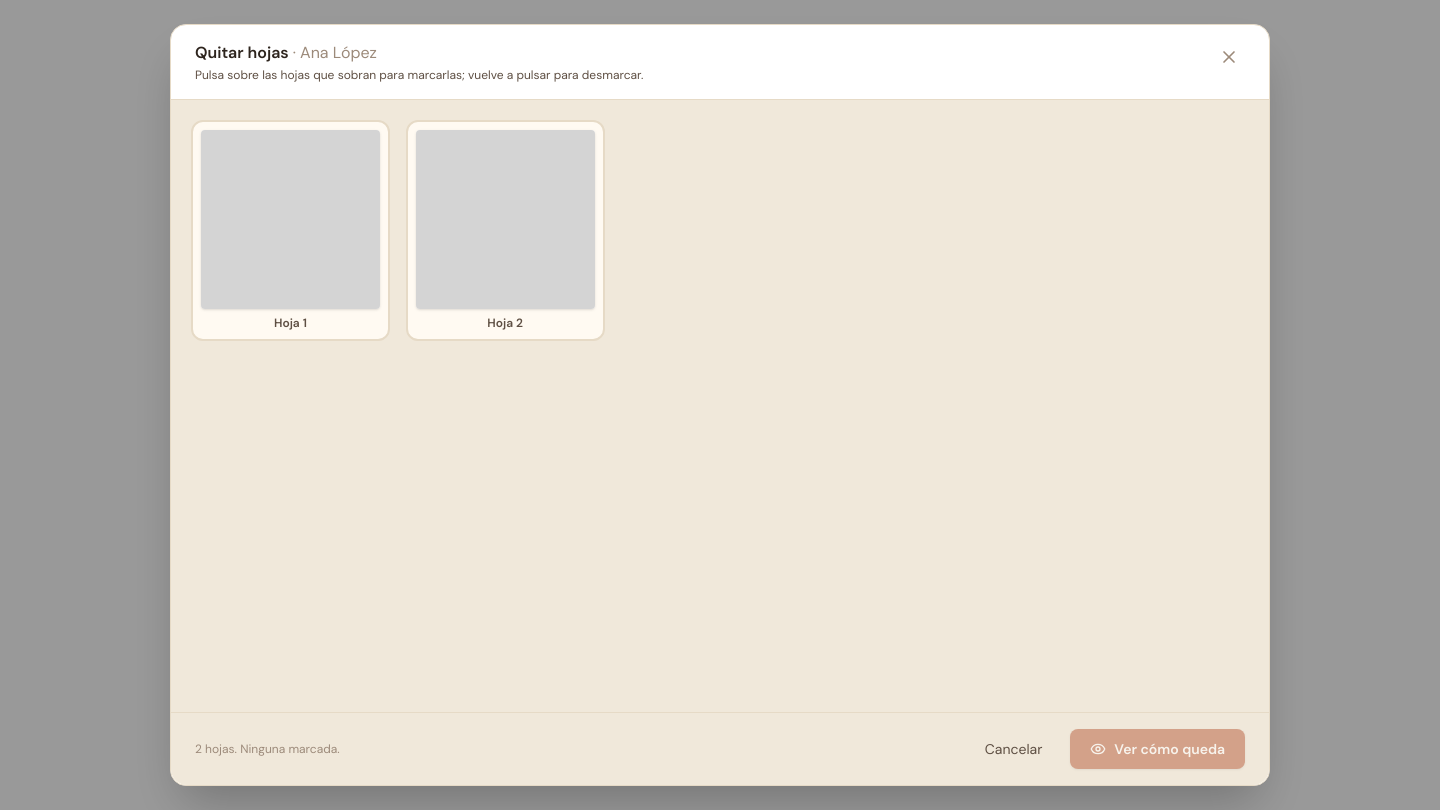
Test: EditarPdfModal · Quitar hojas › no deja quitar todas las hojas
The image size is (1440, 810).
Click the button "Hoja 1" at [290, 230], box [191, 120, 390, 341]
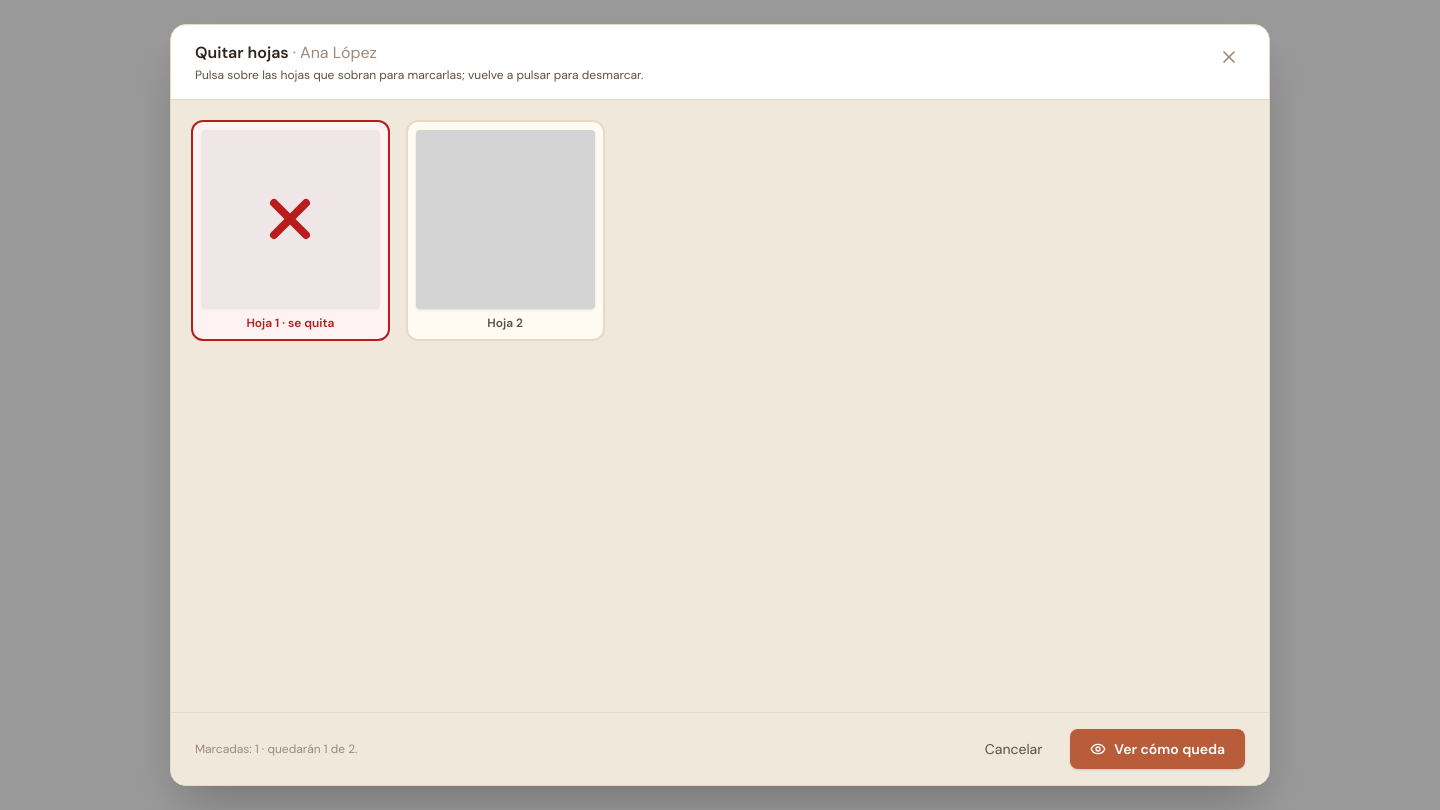
Click the button "Hoja 2" at [505, 230], box [406, 120, 605, 341]
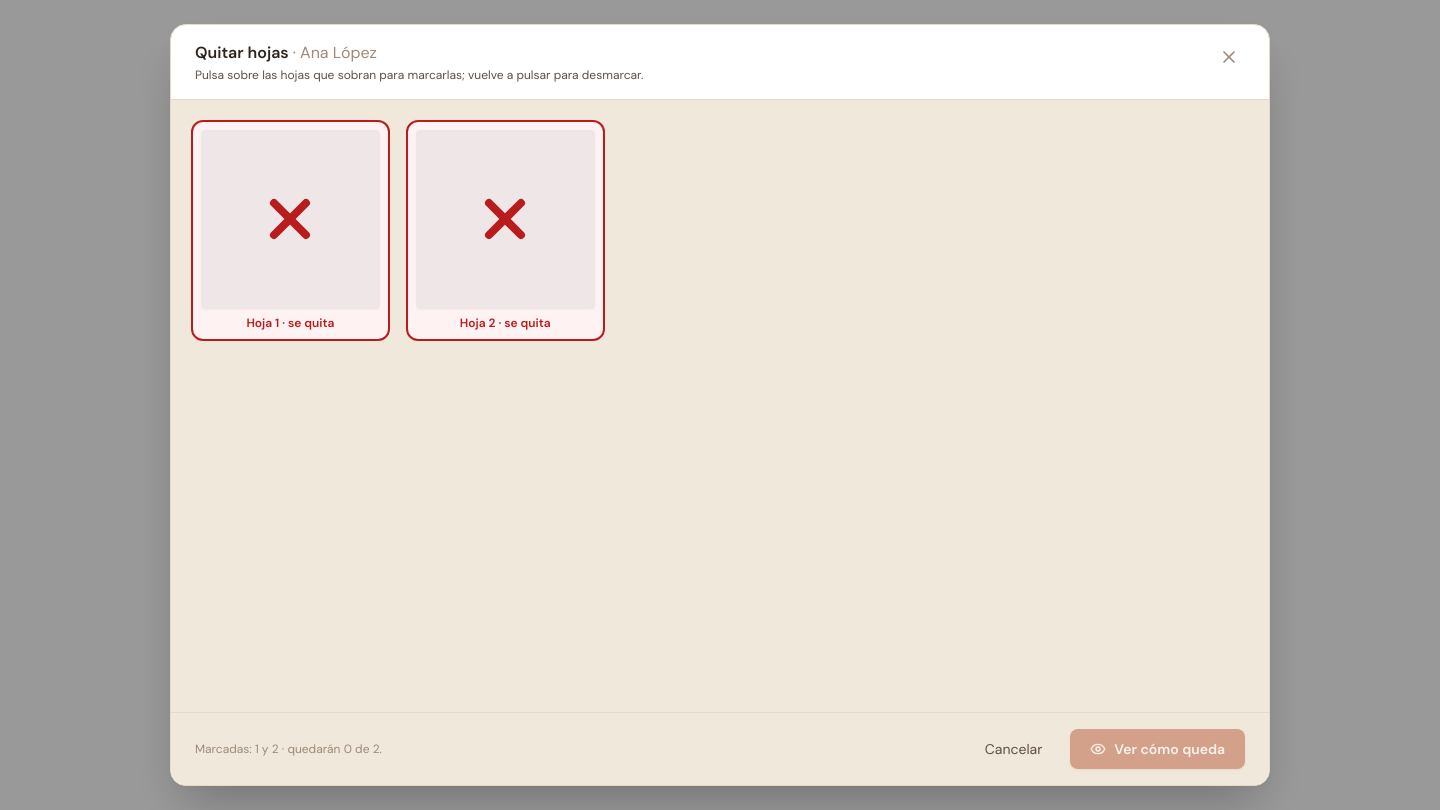
expect the button "Ver cómo queda" is disabled: met, box [1070, 729, 1245, 769]
